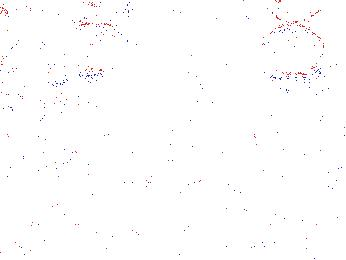moon jellyfish: (10, 18, 80, 105), (257, 24, 327, 78), (63, 22, 129, 76)
